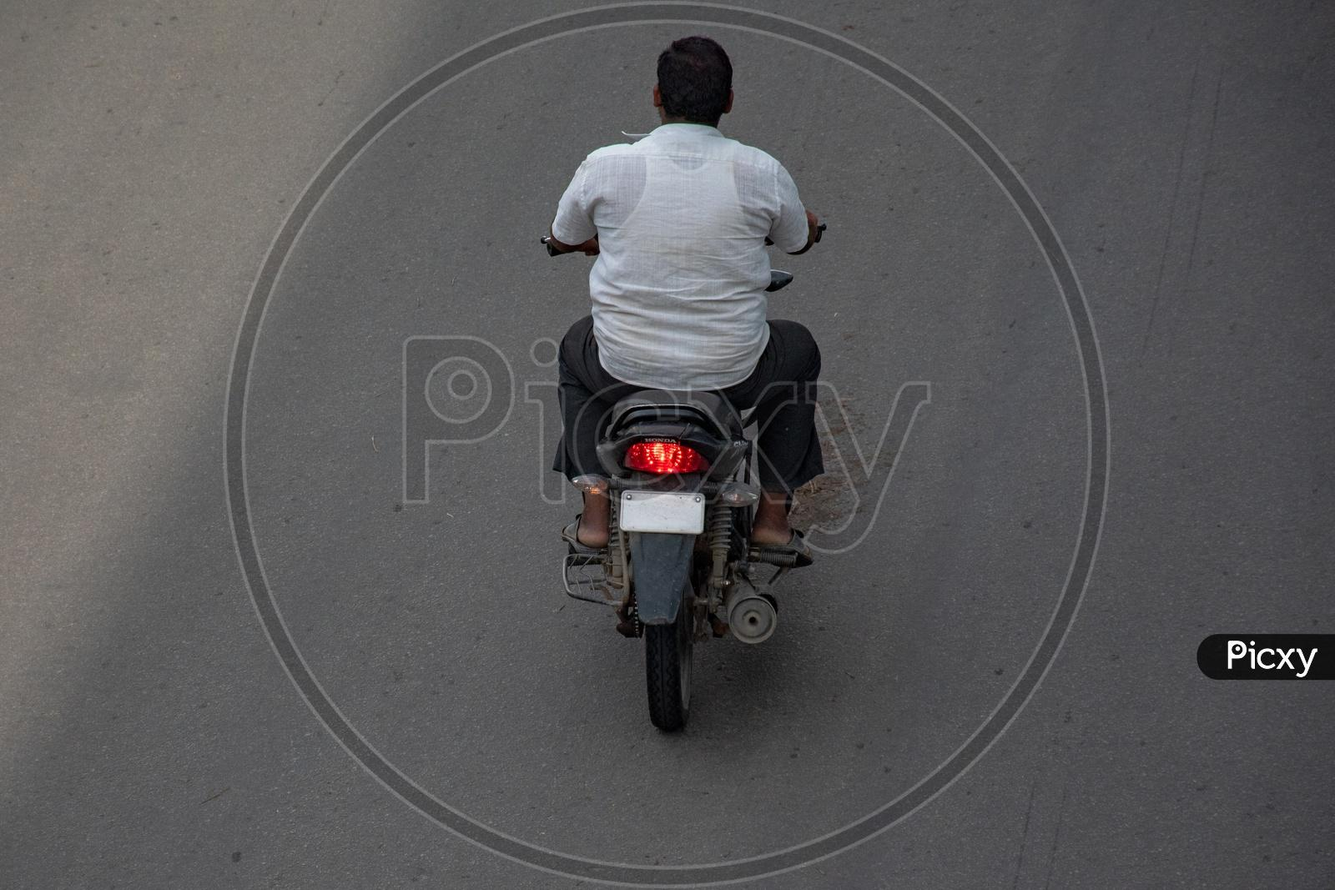nohelmet: (619, 18, 771, 137)
